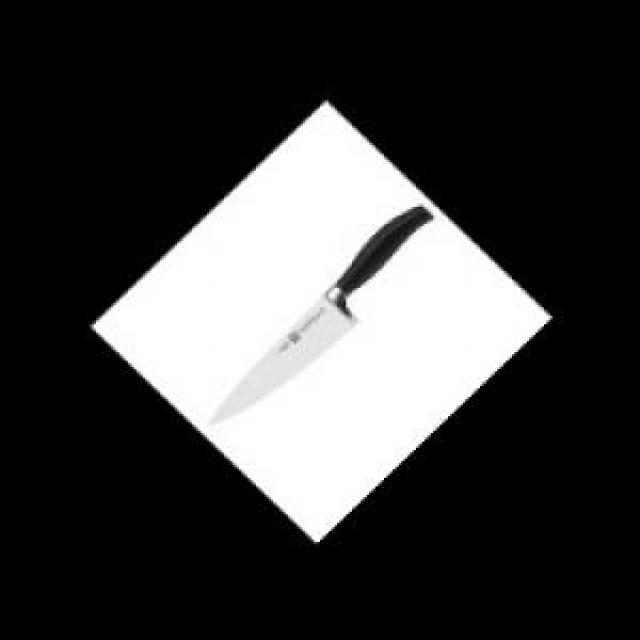knife: (203, 200, 436, 422)
